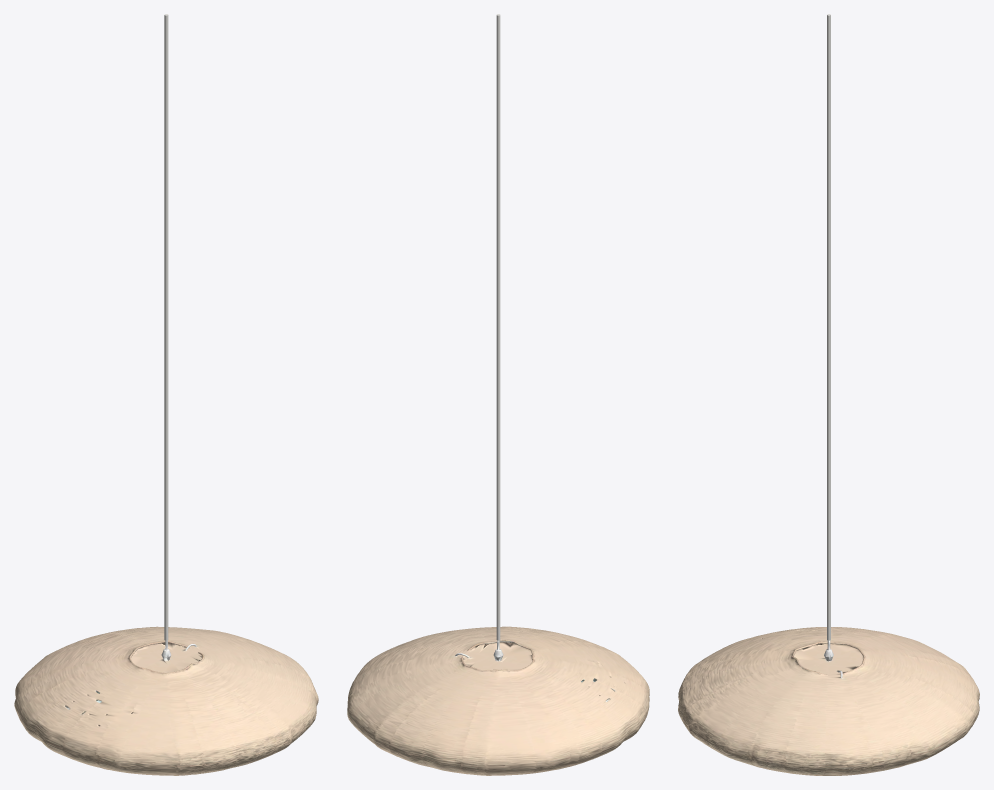
Rendered from ensui-d70.glb.
3 views of the same model, side by side, from view 1: azimuth 30°, elevation 25°; view 2: azimuth 150°, elevation 25°; view 3: azimuth 270°, elevation 25° (orthographic).
Visible parts, largest first — view 1: tripo_node_980e5331-29eb-4741-bc4e-ed3519151ac7, cord_extension; view 2: tripo_node_980e5331-29eb-4741-bc4e-ed3519151ac7, cord_extension; view 3: tripo_node_980e5331-29eb-4741-bc4e-ed3519151ac7, cord_extension.
Part boxes in pixels (x1,y1,x2,y2): tripo_node_980e5331-29eb-4741-bc4e-ed3519151ac7: (14, 626, 318, 775); cord_extension: (164, 14, 168, 640); tripo_node_980e5331-29eb-4741-bc4e-ed3519151ac7: (347, 626, 649, 775); cord_extension: (496, 14, 500, 640); tripo_node_980e5331-29eb-4741-bc4e-ed3519151ac7: (678, 627, 979, 775); cord_extension: (827, 14, 830, 640).
Bounding box in the file's own units: 0.7 × 1.87 × 0.7.
2 materials, 1 textured.
